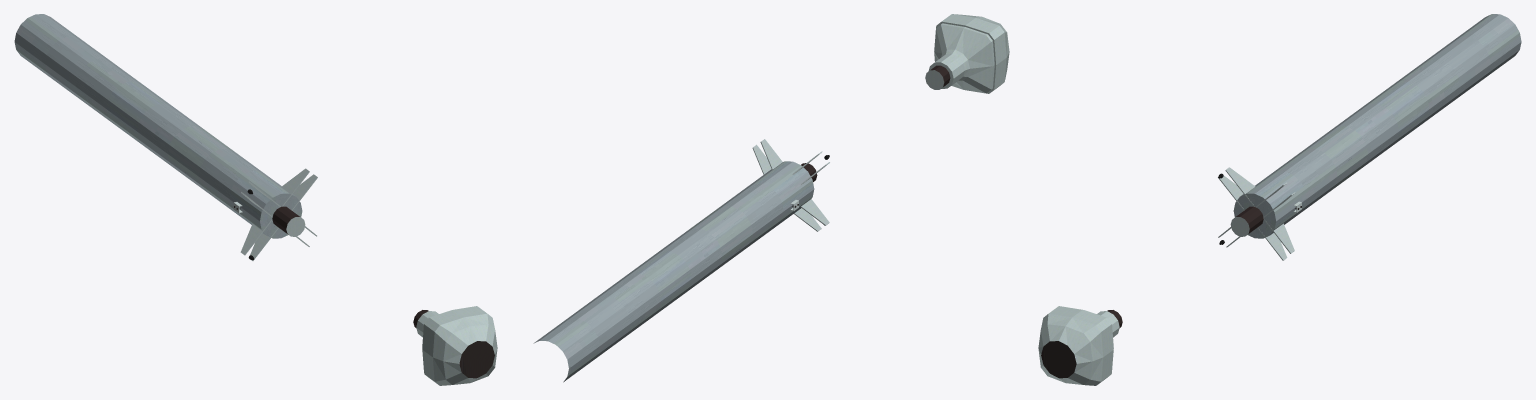
File: ct-11m00000002854791-geode.glb
3 views of the same model, side by side, from view 1: azimuth 30°, elevation 25°; view 2: azimuth 150°, elevation 25°; view 3: azimuth 330°, elevation 25° (orthographic).
Parts seen in each view (by area): view 1: Node; view 2: Node; view 3: Node.
Part boxes in pixels (box(x1,y1,x2,y2)): Node: box(14, 14, 497, 385); Node: box(533, 14, 1009, 382); Node: box(1038, 14, 1521, 385).
Bounding box in the file's own units: 0.6953 × 0.7005 × 7.2.
9 materials, 9 textured.
